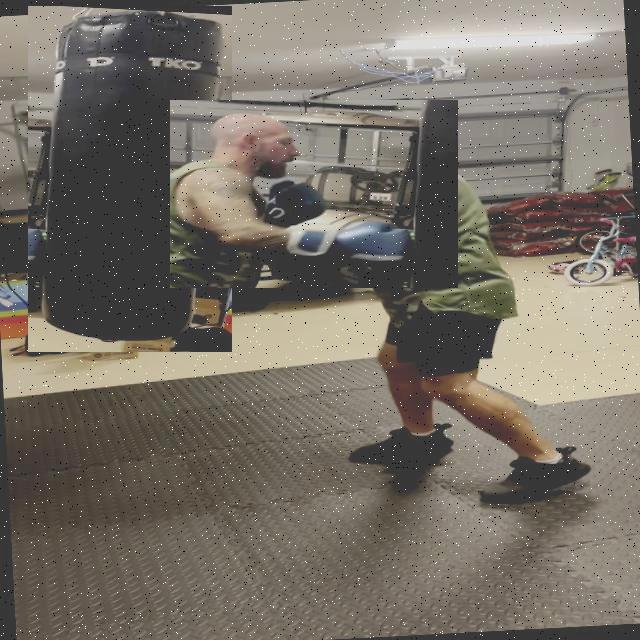punch: (170, 100, 458, 288)
